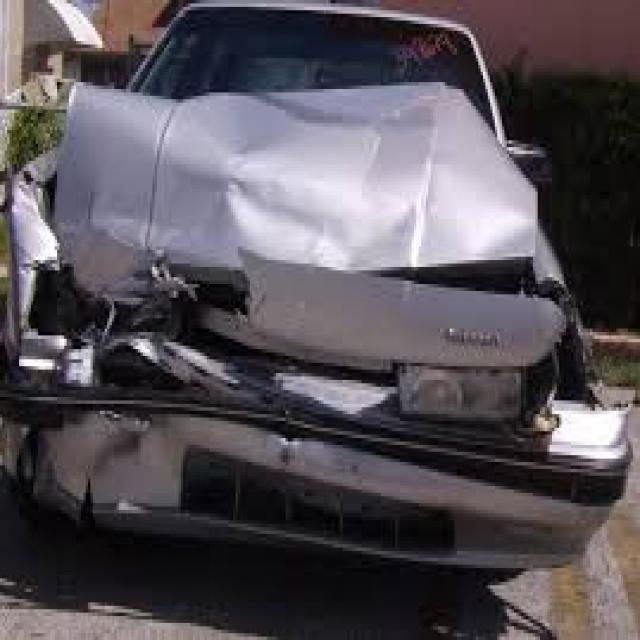severe: (39, 149, 567, 464)
